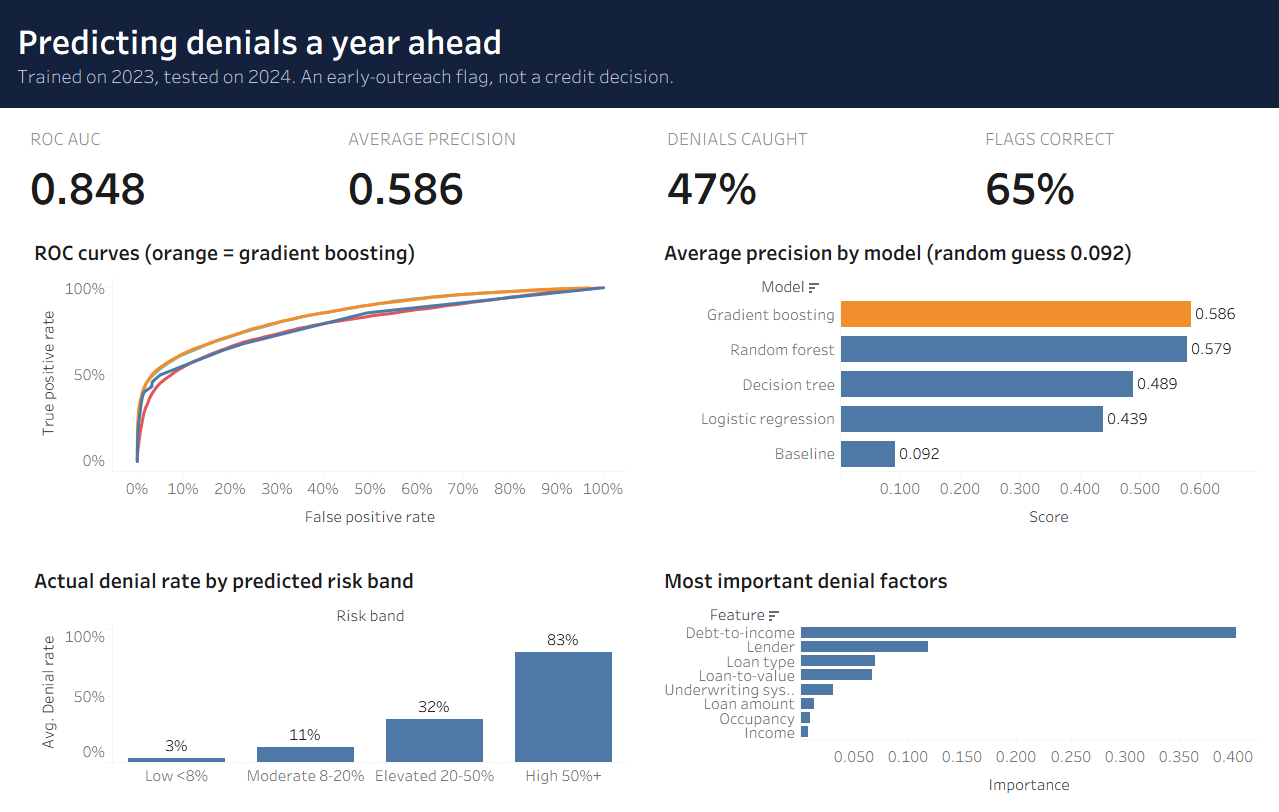

The page's visual inventory and layout, read from the dashboard file:
{"tool":"tableau","page":{"name":"4. Prediction","canvas":[1300,860],"ordinal":3},"visuals":[{"type":"text","box":[0,0,1300,107.5]},{"type":"worksheet","title":"KPI auc","mark":"Text","box":[19.5,116.1,305.5,103.2]},{"type":"worksheet","title":"KPI ap","mark":"Text","box":[338,116.1,305.5,103.2]},{"type":"worksheet","title":"KPI recall","mark":"Text","box":[656.5,116.1,305.5,103.2]},{"type":"worksheet","title":"KPI precision","mark":"Text","box":[975,116.1,305.5,103.2]},{"type":"worksheet","title":"ROC curves","mark":"Line","rows":["tpr"],"cols":["fpr"],"box":[19.5,223.6,617.5,320.1]},{"type":"worksheet","title":"Denial models","mark":"Bar","rows":["model"],"cols":["score"],"box":[650,223.6,617.5,320.1]},{"type":"worksheet","title":"Risk vs outcome","mark":"Bar","rows":["denied"],"cols":["Risk band"],"box":[19.5,552.3,617.5,260.4]},{"type":"worksheet","title":"Denial drivers","mark":"Bar","rows":["feature"],"cols":["importance"],"box":[650,552.3,617.5,260.4]},{"type":"text","box":[19.5,825.6,1261,34.4]}]}

Visuals, with their boxes on the page's 1300x860 design canvas (x1, y1, x2, y2). These are canvas units, not pixel positions in the 1279x812 screenshot, which may show the page scaled, cropped or inside an application window:
text: [left=0, top=0, right=1300, bottom=108]
"KPI auc" worksheet (Text marks): [left=20, top=116, right=325, bottom=219]
"KPI ap" worksheet (Text marks): [left=338, top=116, right=644, bottom=219]
"KPI recall" worksheet (Text marks): [left=656, top=116, right=962, bottom=219]
"KPI precision" worksheet (Text marks): [left=975, top=116, right=1280, bottom=219]
"ROC curves" worksheet (Line marks): [left=20, top=224, right=637, bottom=544]
"Denial models" worksheet (Bar marks): [left=650, top=224, right=1268, bottom=544]
"Risk vs outcome" worksheet (Bar marks): [left=20, top=552, right=637, bottom=813]
"Denial drivers" worksheet (Bar marks): [left=650, top=552, right=1268, bottom=813]
text: [left=20, top=826, right=1280, bottom=860]
